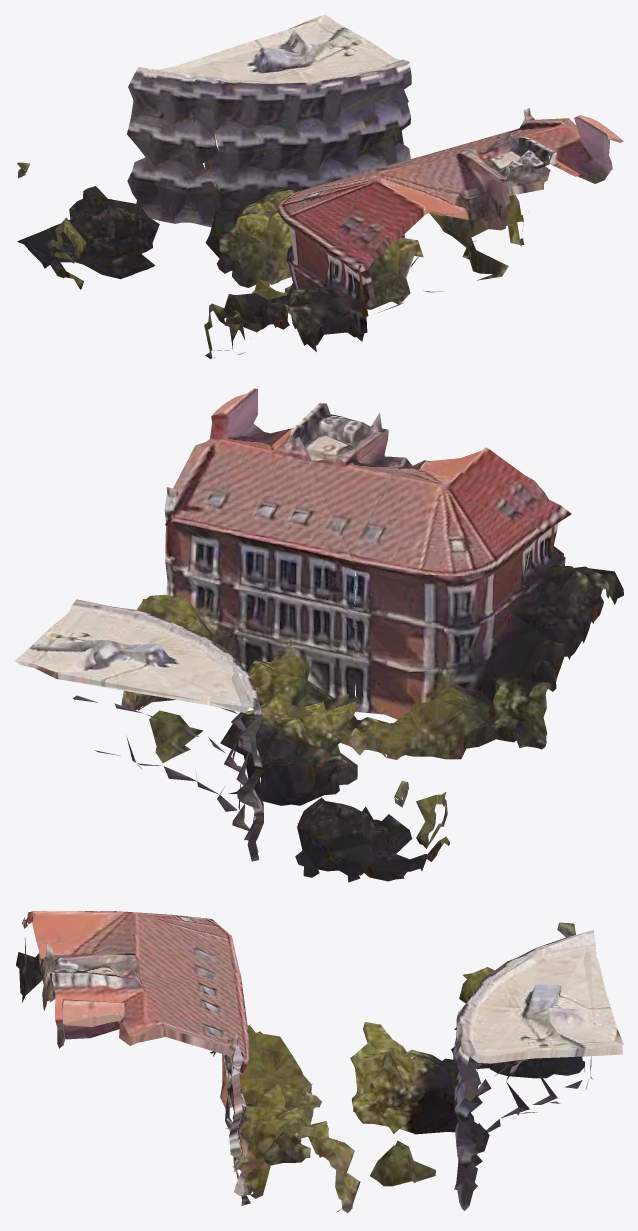
The picture shows the model from 3 angles, top to bottom: view 1: azimuth 30°, elevation 25°; view 2: azimuth 150°, elevation 25°; view 3: azimuth 270°, elevation 25°; orthographic projection. The views are drawn at different scales.
Visible parts, largest first — view 1: Mesh_0; view 2: Mesh_0; view 3: Mesh_0.
Boxes of the visible parts, x1,y1,x2,y2 form: Mesh_0: (17, 14, 623, 359); Mesh_0: (14, 388, 623, 882); Mesh_0: (16, 911, 623, 1213).
Bounding box in the file's own units: 33.62 × 17.05 × 41.46.
Materials: 1 (1 with a texture image).
